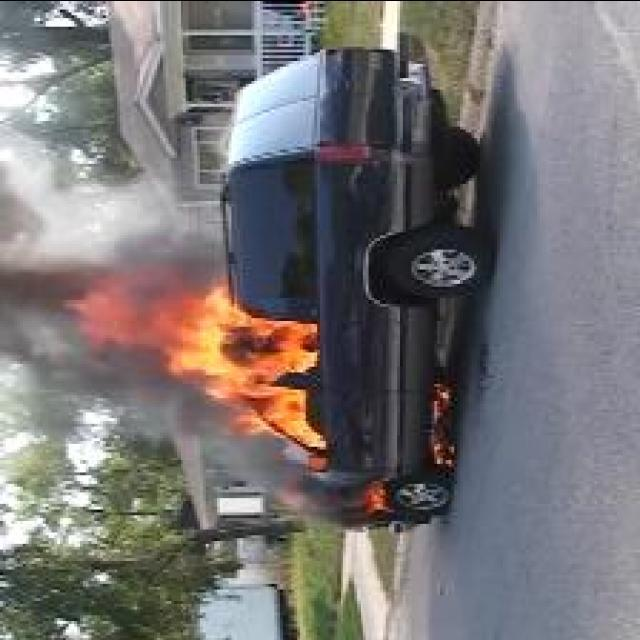Fire: (60, 268, 326, 452)
